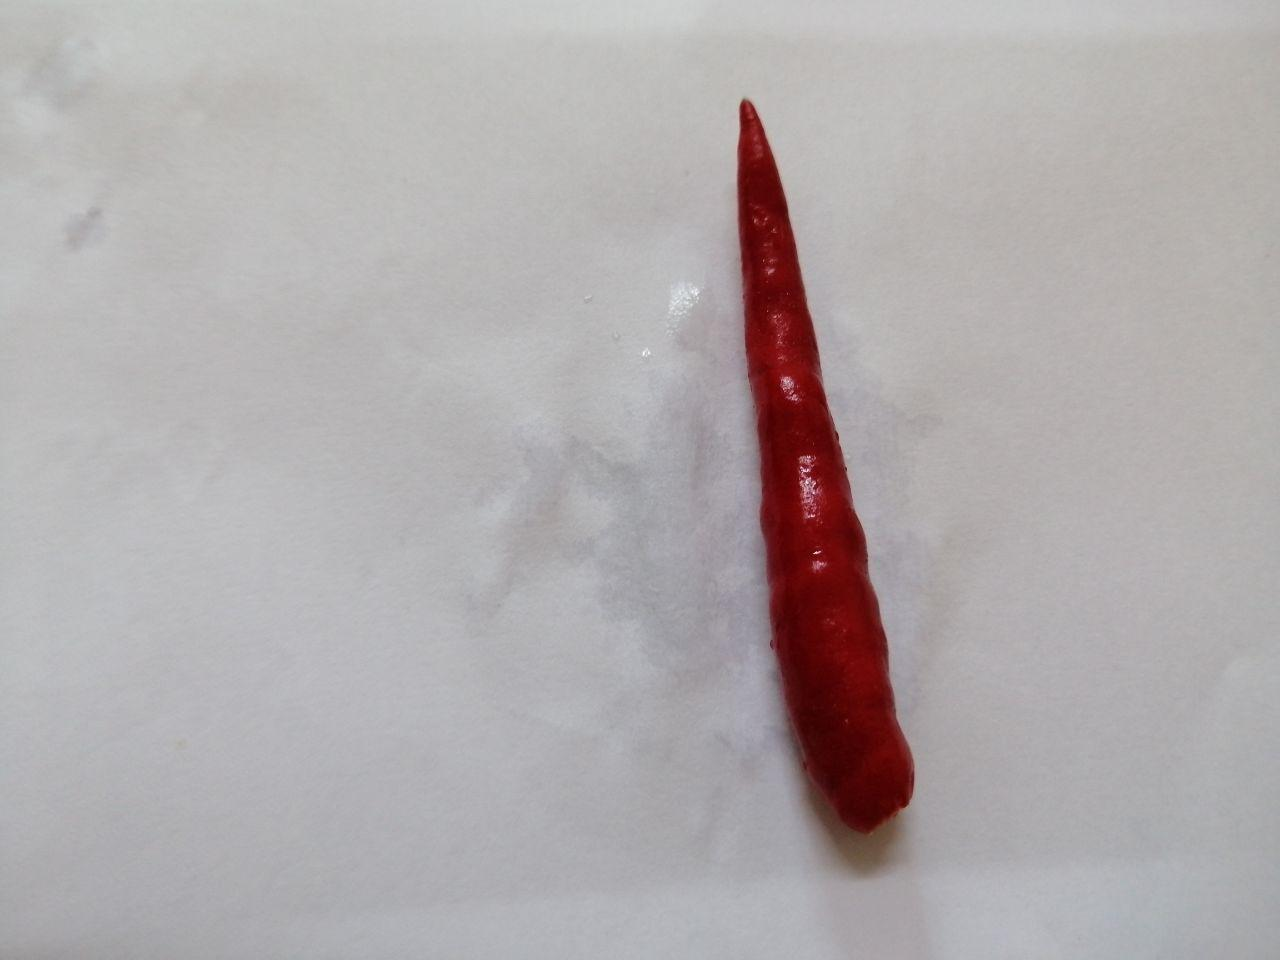lada merah: (710, 80, 955, 844)
